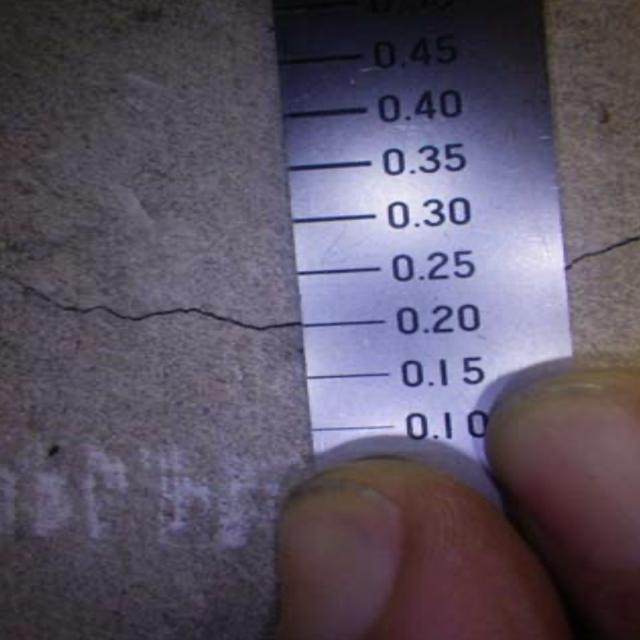crack: (1, 254, 303, 357), (545, 217, 640, 278)
